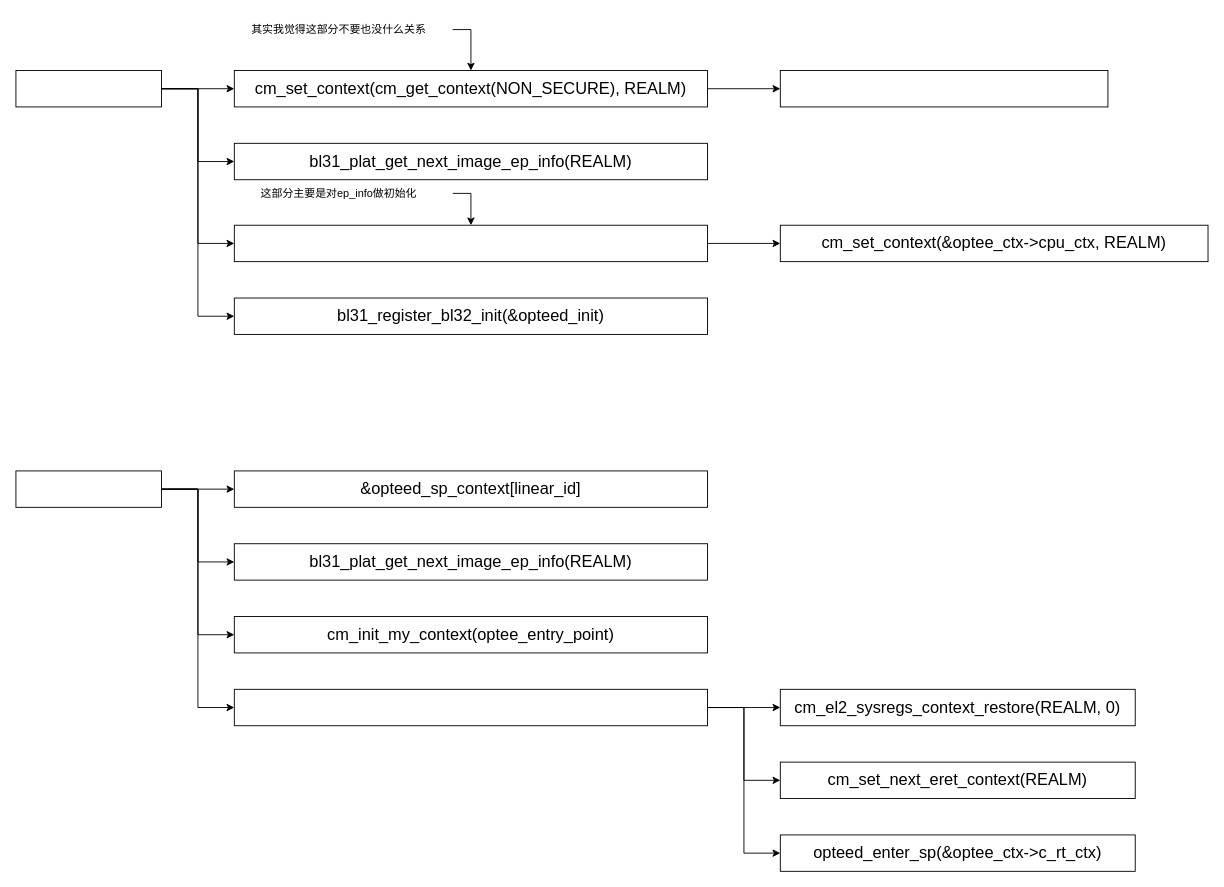
The diagram is 1224 pixels wide and 887 high, and some of its shapes have lost their labels. The shapes that lost their labels are listed below. From the top down, each one's box as (x1, y1, x2, y2) in pixels, then its label:
(15, 70, 162, 107): opteed_setup()
(779, 70, 1108, 107): set_cpu_data(cpu_context[2], context)
(233, 224, 708, 262): opteed_init_optee_ep_state
(15, 470, 162, 507): opteed_init()
(233, 688, 708, 726): opteed_synchronous_sp_entry(optee_ctx)
